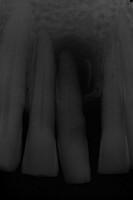Dental Caries: (52, 34, 103, 102)
